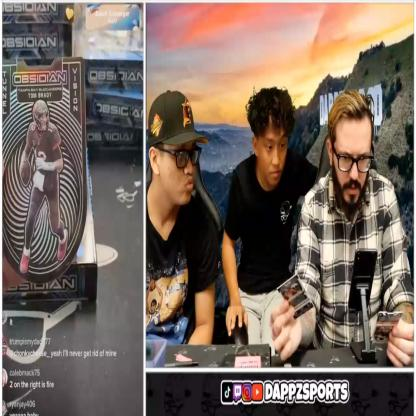streamer: (272, 90, 414, 368), (221, 88, 318, 348), (147, 89, 219, 342)
